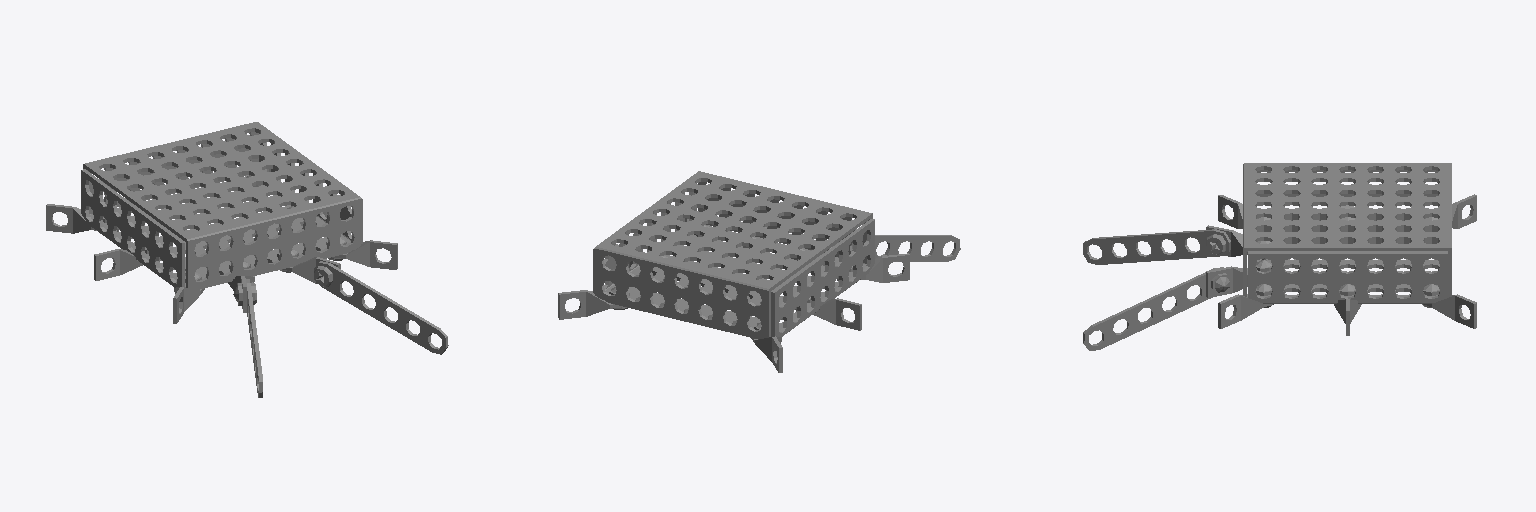
Rendered from babyface_Base.obj.
3 views of the same model, side by side, from view 1: azimuth 30°, elevation 25°; view 2: azimuth 150°, elevation 25°; view 3: azimuth 270°, elevation 25° (orthographic).
Parts seen in each view (by area): view 1: babyface_Base; view 2: babyface_Base; view 3: babyface_Base.
Boxes of the visible parts, x1=… form: babyface_Base: x1=46, y1=122, x2=448, y2=397; babyface_Base: x1=558, y1=171, x2=960, y2=372; babyface_Base: x1=1083, y1=163, x2=1476, y2=350.
Bounding box in the file's own units: 3.31 × 1.26 × 4.45.